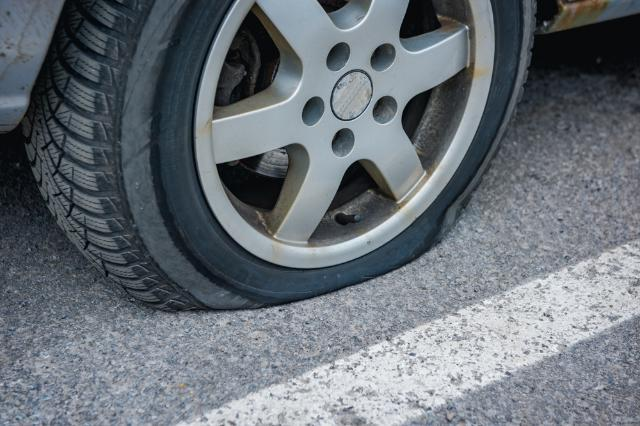tire flat: (21, 0, 535, 315)
